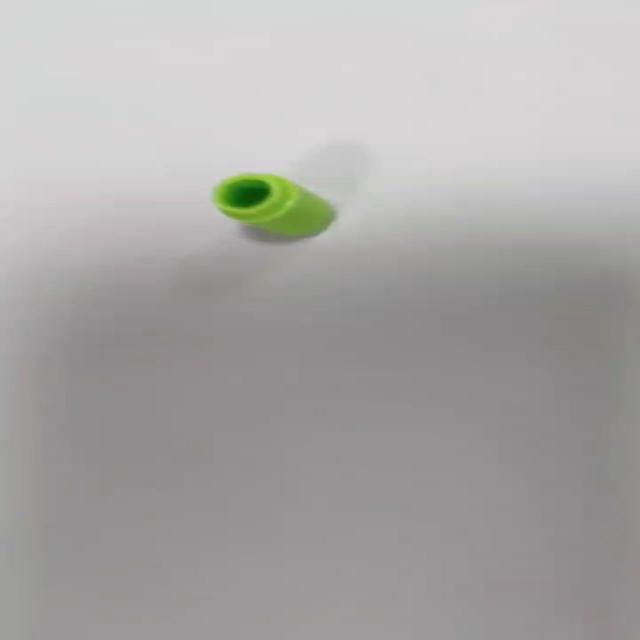S1x1x1: (209, 172, 339, 240)
